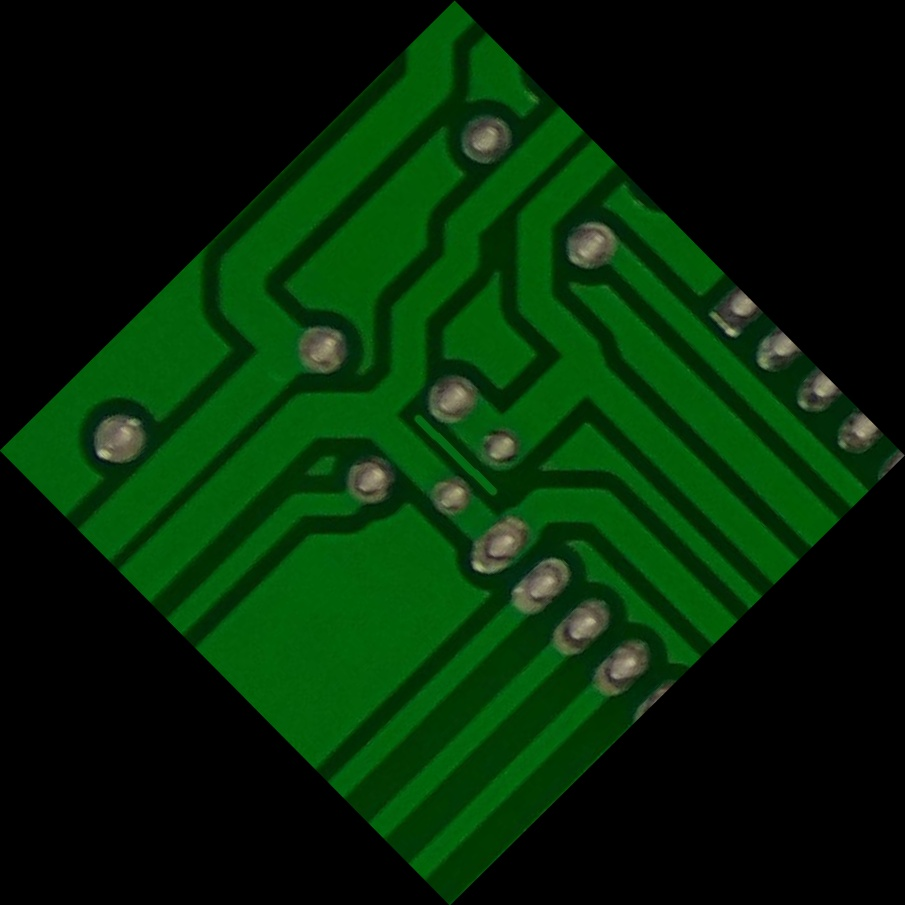spurious_copper: (391, 390, 515, 514)
